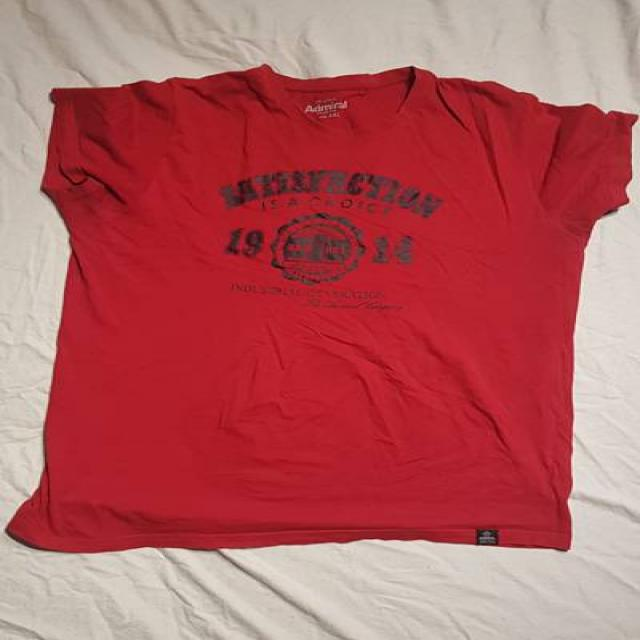Clothes -Biodegradable-: (5, 69, 640, 555)
